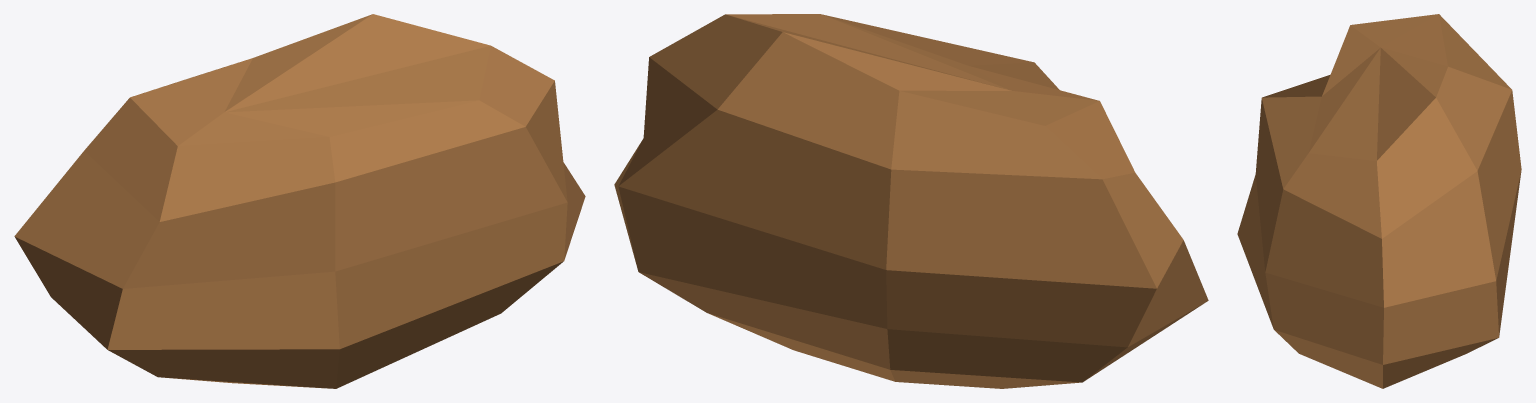
The model's file is Large_Rock_2_1_1_Colored.fbx.
3 renders of one model, left to right at view 1: azimuth 30°, elevation 25°; view 2: azimuth 150°, elevation 25°; view 3: azimuth 270°, elevation 25°, orthographic. The views are drawn at different scales.
Parts seen in each view (by area): view 1: Large_Rock_2_1_1; view 2: Large_Rock_2_1_1; view 3: Large_Rock_2_1_1.
Boxes of the visible parts, x1,y1,x2,y2 form: Large_Rock_2_1_1: (14,14,585,388); Large_Rock_2_1_1: (614,14,1208,388); Large_Rock_2_1_1: (1237,14,1521,388).
Size of the model in its own units: 194 by 101 by 98.52.
